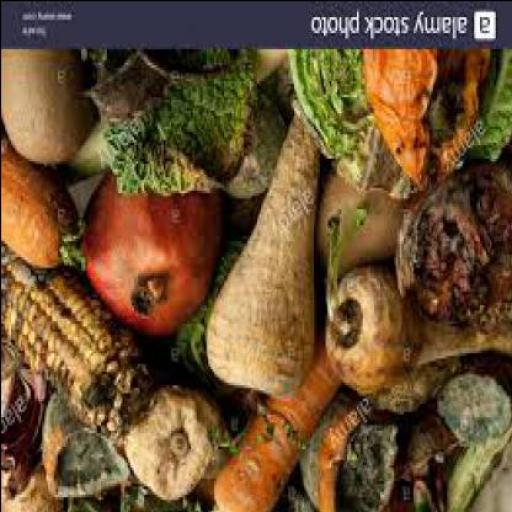biodegradable: (205, 122, 323, 406), (289, 51, 511, 198), (61, 53, 287, 187), (2, 248, 154, 442), (82, 170, 223, 344), (326, 270, 511, 401), (104, 54, 262, 200), (215, 342, 344, 512), (399, 163, 511, 342), (364, 53, 494, 192), (170, 240, 255, 402), (2, 134, 90, 275), (125, 392, 228, 506), (174, 237, 244, 392), (2, 56, 92, 168), (45, 395, 131, 499), (318, 160, 397, 272), (2, 344, 57, 502), (319, 406, 399, 512), (219, 96, 286, 197), (300, 391, 354, 511), (84, 53, 168, 125), (436, 368, 510, 447), (368, 360, 464, 414), (446, 432, 510, 511), (2, 450, 72, 511), (398, 411, 457, 483), (328, 214, 370, 310), (256, 48, 299, 110), (219, 200, 266, 237), (414, 480, 448, 511), (194, 478, 218, 510)
